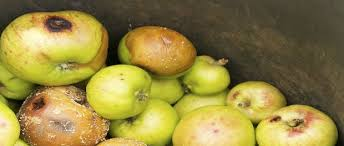damaged_apple: (2, 13, 110, 85), (15, 83, 112, 146), (124, 24, 195, 79)
